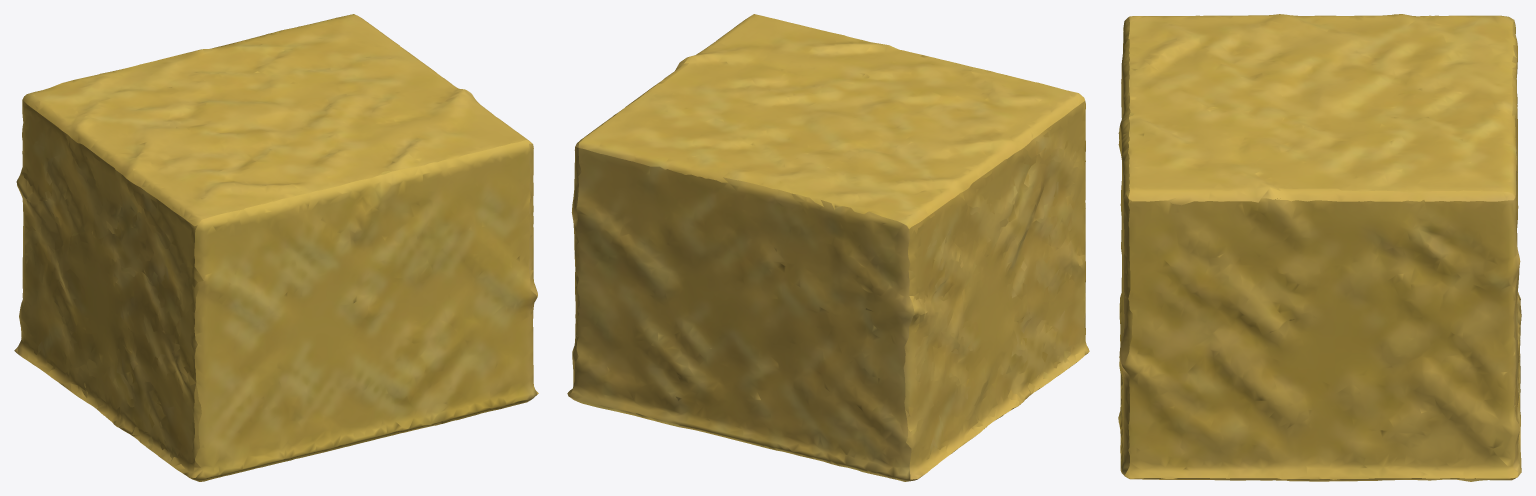
Rendered from hay_bale.glb.
The picture shows the model from 3 angles, left to right: view 1: azimuth 30°, elevation 25°; view 2: azimuth 150°, elevation 25°; view 3: azimuth 270°, elevation 25°; orthographic projection. The views are drawn at different scales.
Visible parts, largest first — view 1: world; view 2: world; view 3: world.
Part boxes in pixels (x1,y1,x2,y2): world: [14, 14, 538, 481]; world: [567, 14, 1089, 481]; world: [1118, 14, 1521, 481].
Bounding box in the file's own units: 0.6934 × 0.5084 × 0.6252.
Materials: 1 (1 with a texture image).
